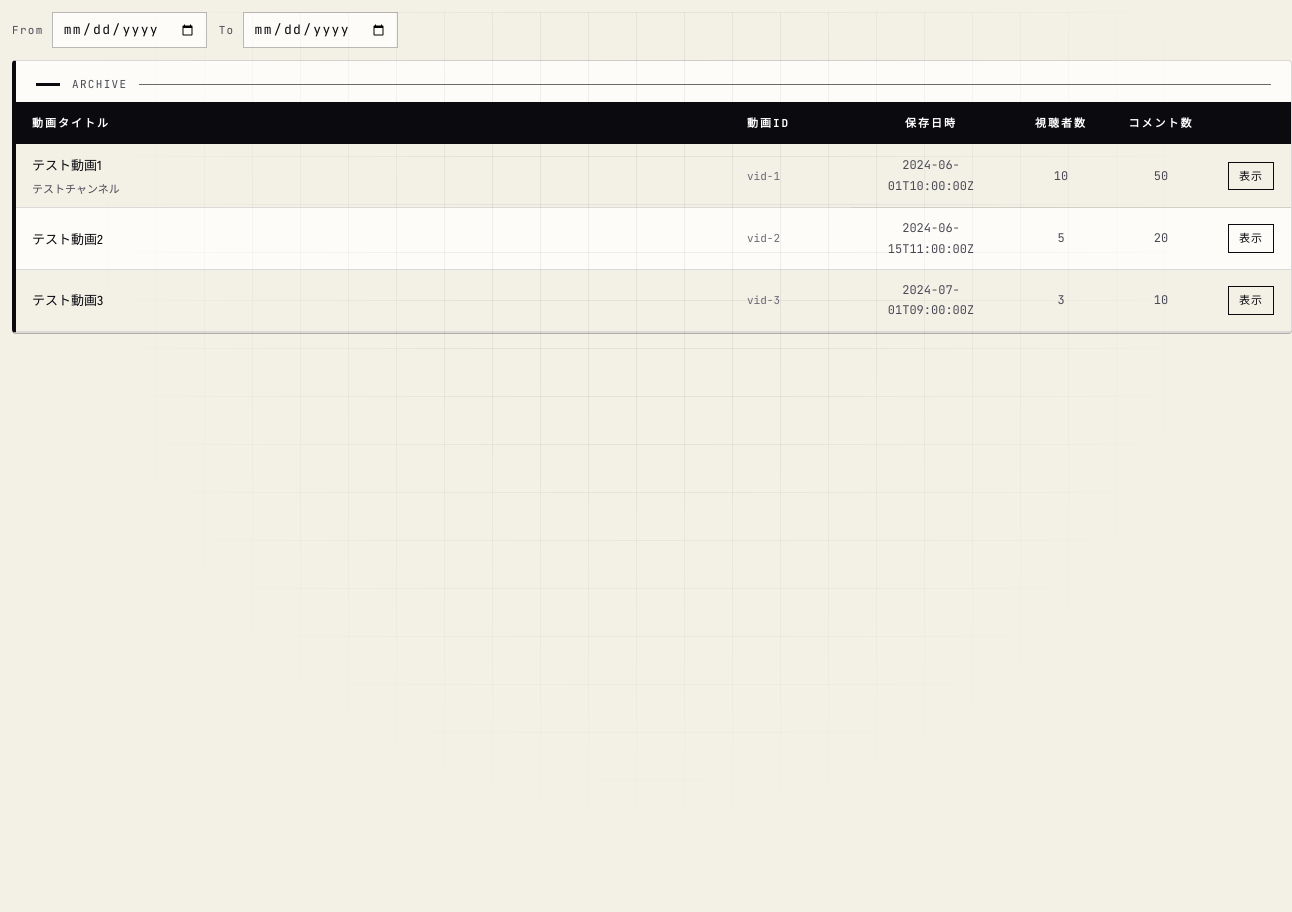
Scenario: HistoryList › from のみ指定すると以降の件数に絞られる
From input は最初の date input
Type "2024-06-15" into the date field labelled "From". click: [129, 30]
box: [52,12,207,48]
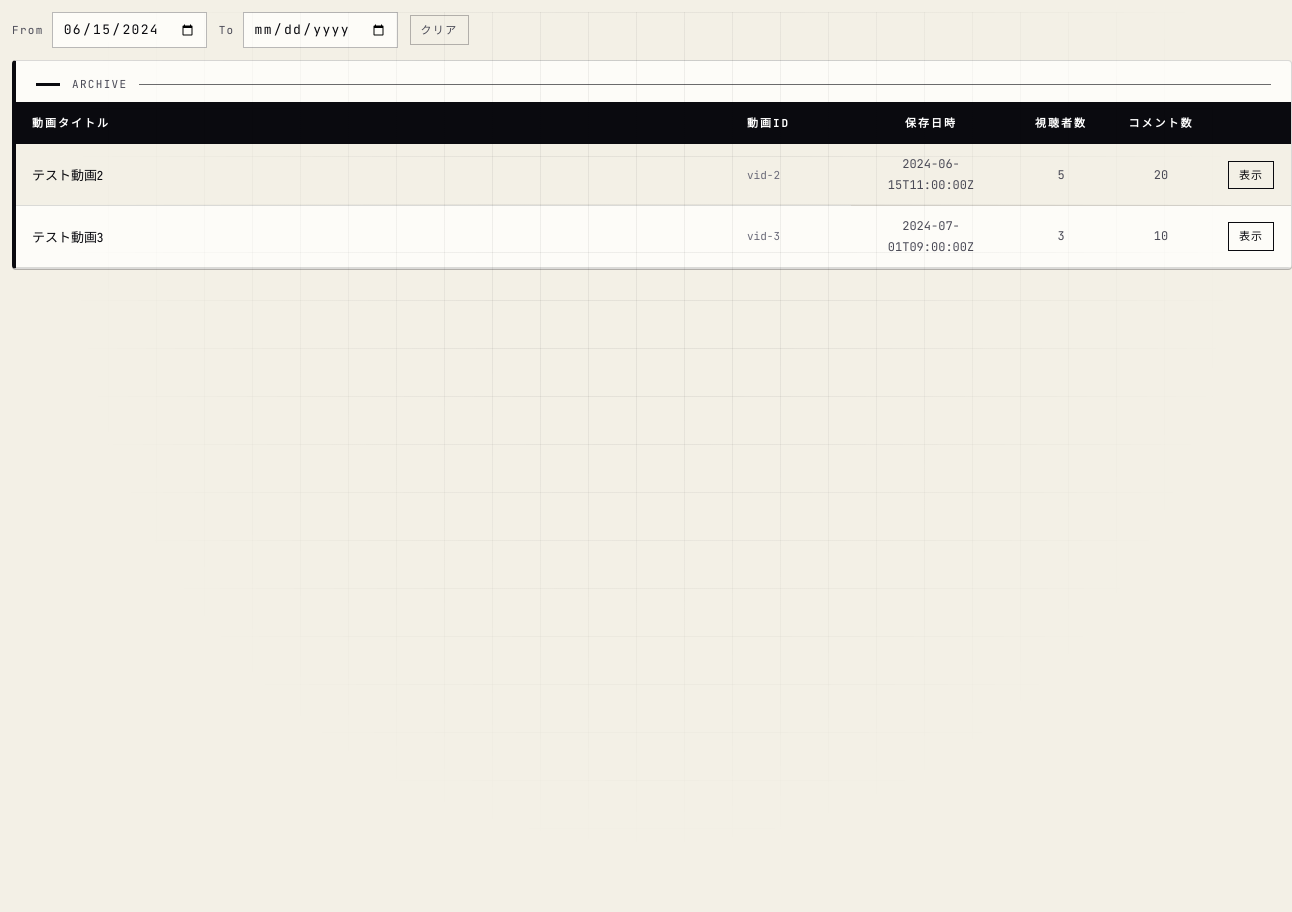
Check: the text "vid-2" is shown, box [731,144,851,206]
Check: the text "vid-1" is gone
